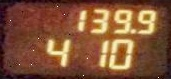-: (129, 27, 135, 33)
0: (106, 38, 133, 69)
1: (98, 39, 107, 68), (75, 9, 85, 31)
3: (88, 8, 109, 32)
4: (45, 38, 69, 66)
9: (112, 8, 131, 33), (136, 9, 155, 33)
